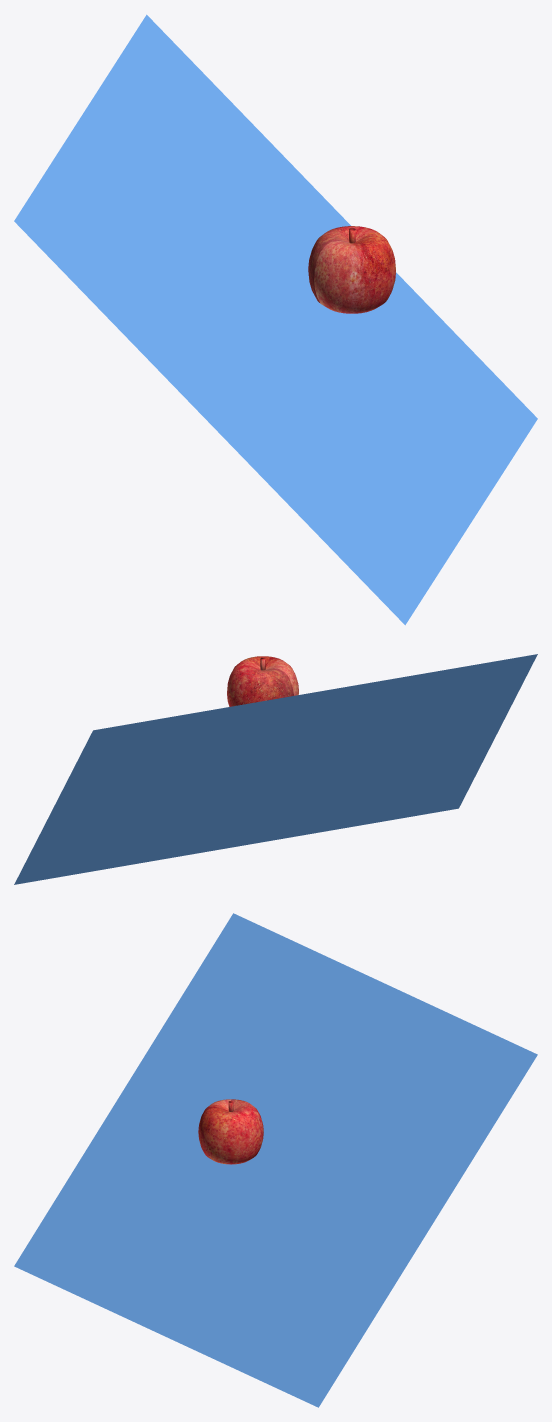
File: apple.obj
3 renders of one model, top to bottom at view 1: azimuth 30°, elevation 25°; view 2: azimuth 150°, elevation 25°; view 3: azimuth 270°, elevation 25°, orthographic. The views are drawn at different scales.
Parts seen in each view (by area): view 1: Plane, Sphere; view 2: Plane, Sphere; view 3: Plane, Sphere.
Part boxes in pixels (<box>): Plane: <box>14,14,537,625</box>; Sphere: <box>308,226,395,313</box>; Plane: <box>14,654,537,884</box>; Sphere: <box>227,656,298,706</box>; Plane: <box>14,913,537,1407</box>; Sphere: <box>198,1099,263,1164</box>.
Bounding box in the file's own units: 15.24 × 9.55 × 15.99.
Materials: 2 (1 with a texture image).
